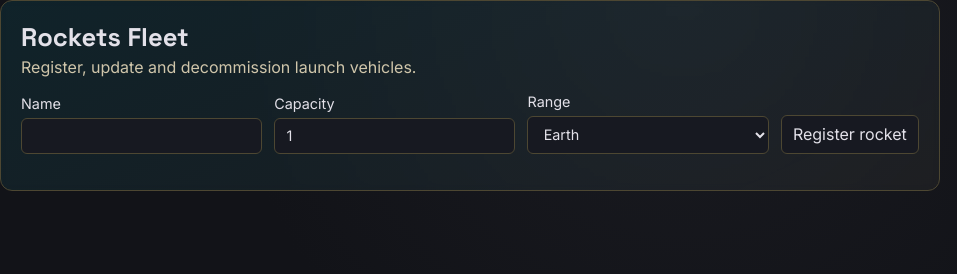
Test: registers a new rocket
The image size is (957, 274).
Type "Nova" into the field labelled "Name". click: {"x": 142, "y": 136}
box: [21,118,262,154]
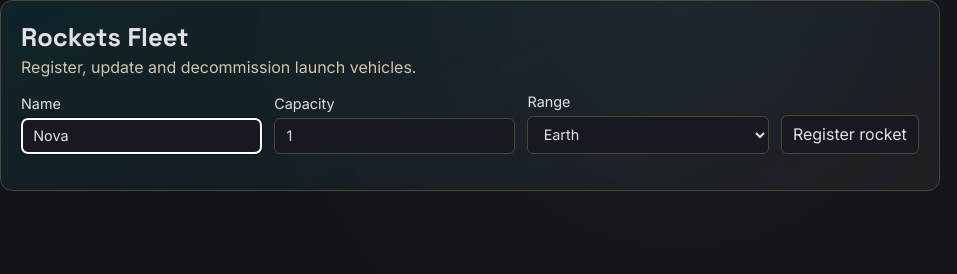
Replace the text in the number field labelled "Capacity" with "5". click: {"x": 395, "y": 136}
box: [274,118,515,154]
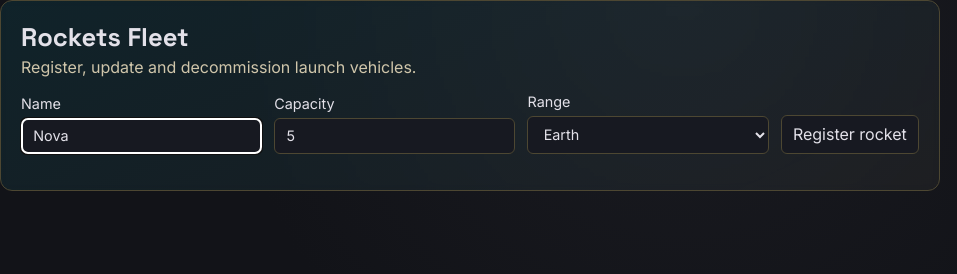
Select "Mars" in the dropdown labelled "Range". click: {"x": 648, "y": 135}
box: [528,116,769,154]
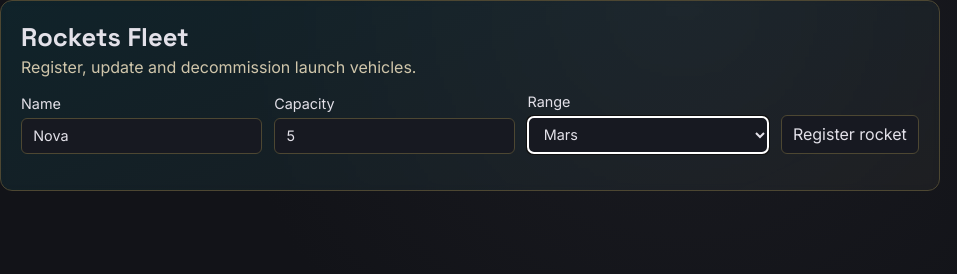
Click the button "Register rocket". click: {"x": 850, "y": 134}
box: [781,115,919,154]
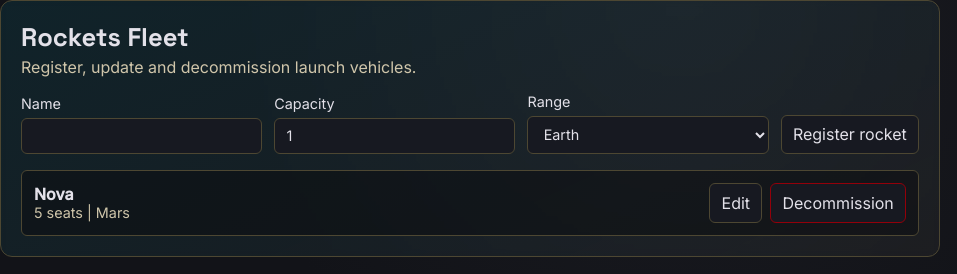
expect the text "Nova" is shown: met, box [34,184,74,204]
